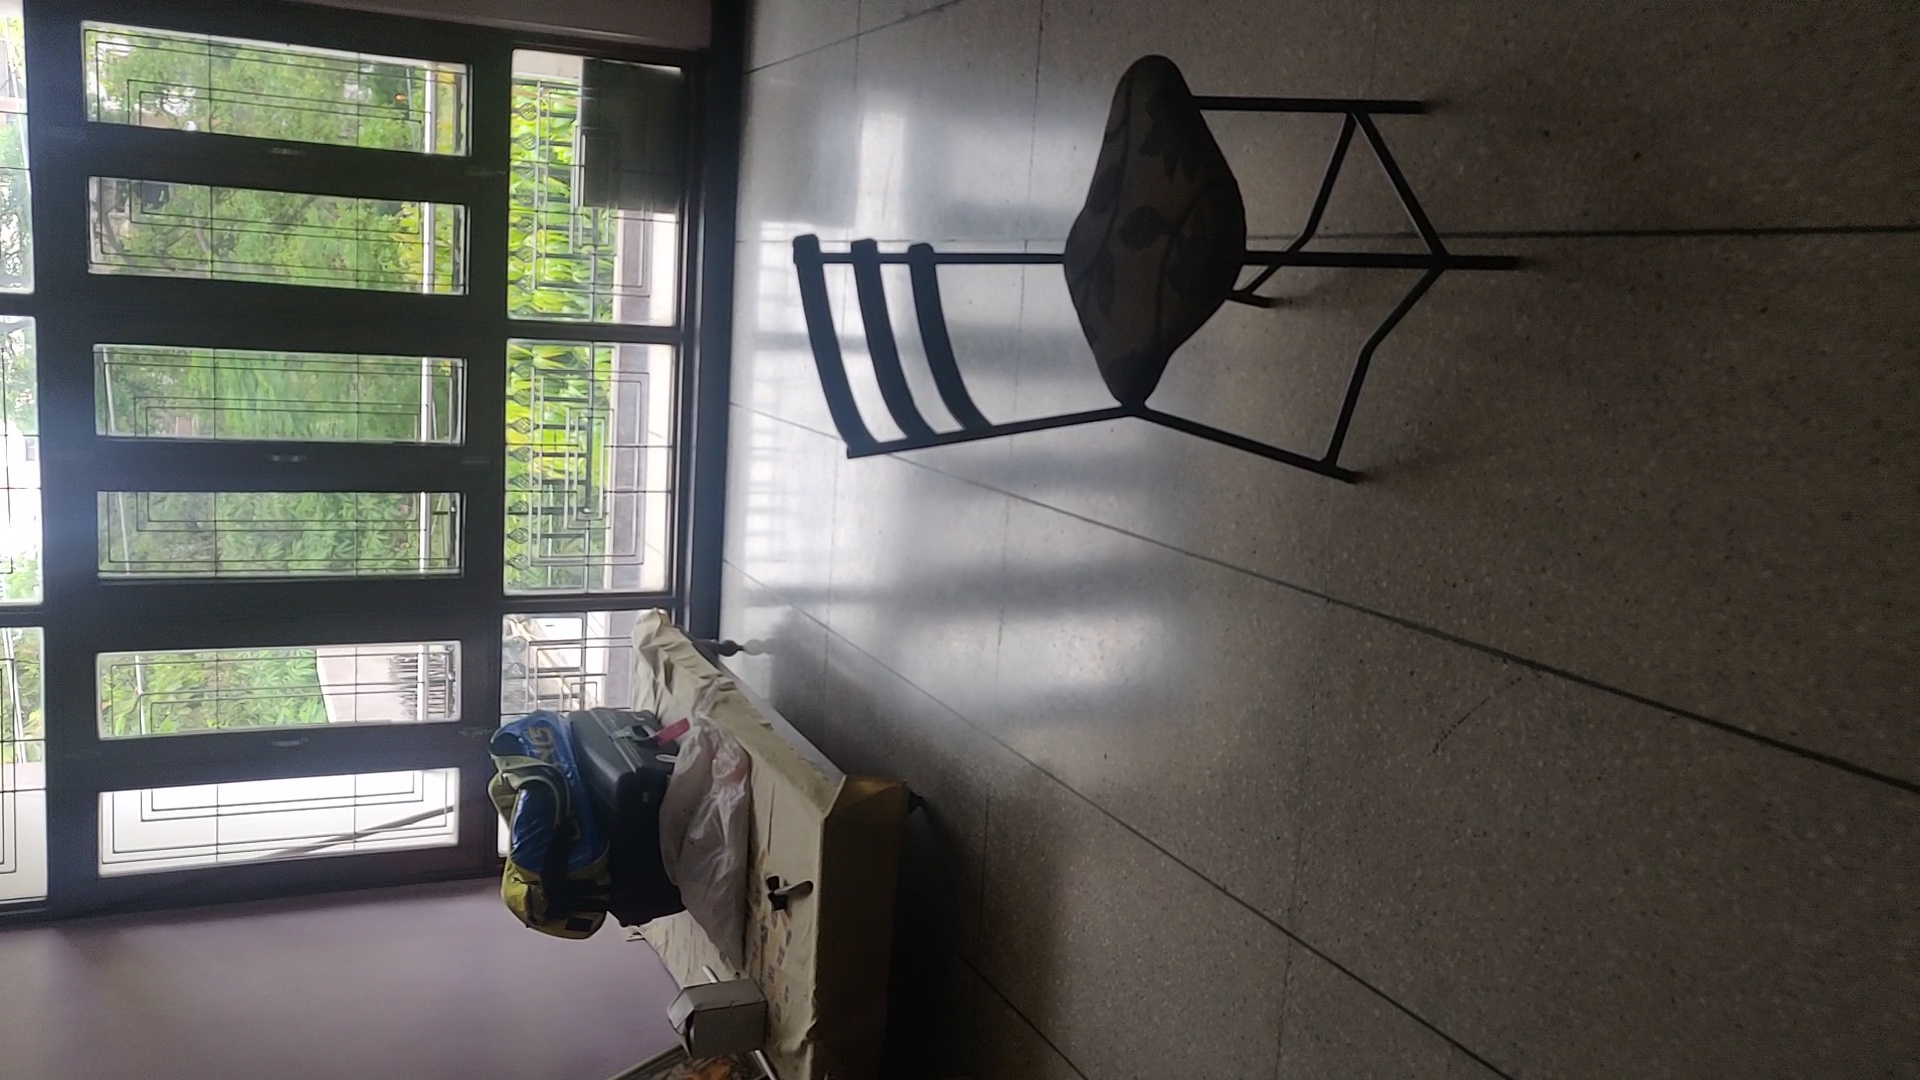hammer: (762, 876, 814, 915)
